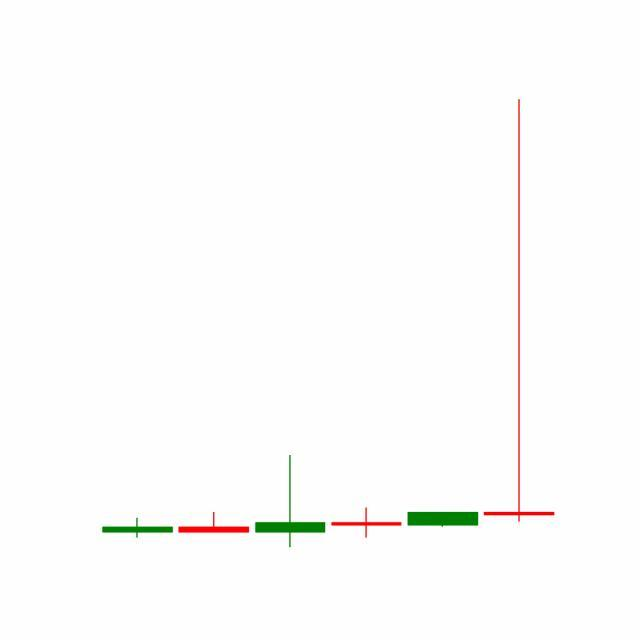Marubozu: (404, 512, 482, 529)
